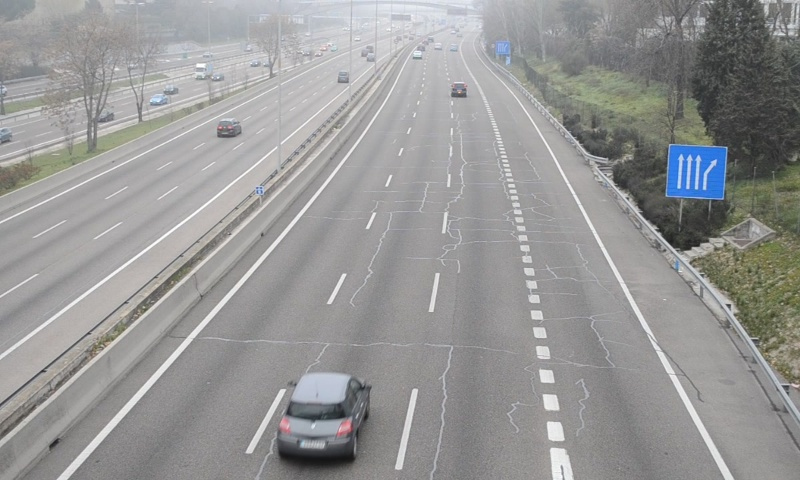car: (277, 373, 371, 459), (450, 80, 467, 96)
